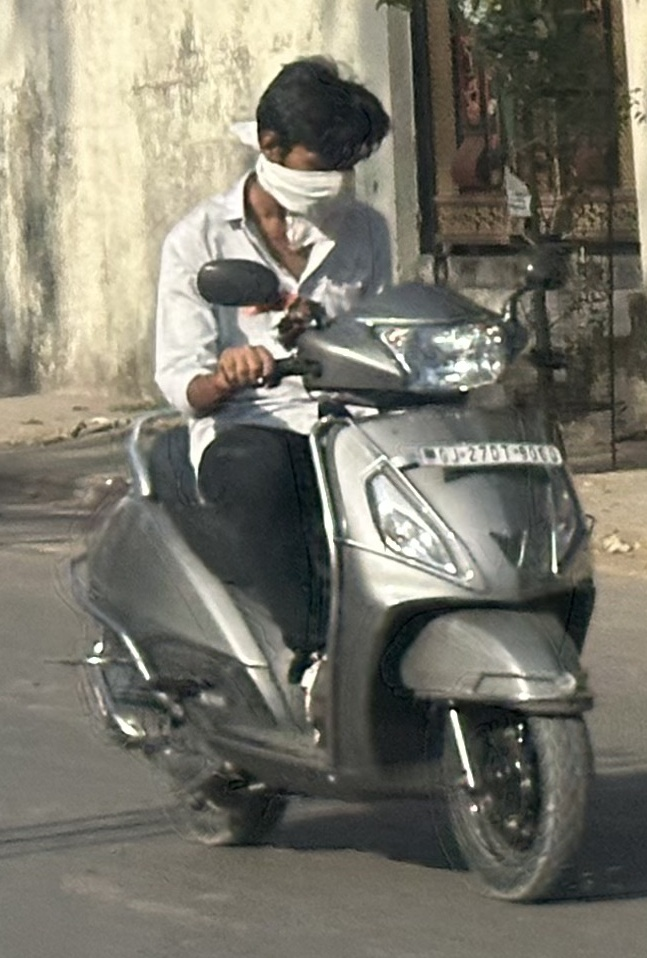BikeWithRider: (44, 44, 620, 912)
NoHelmet: (226, 48, 402, 223)
